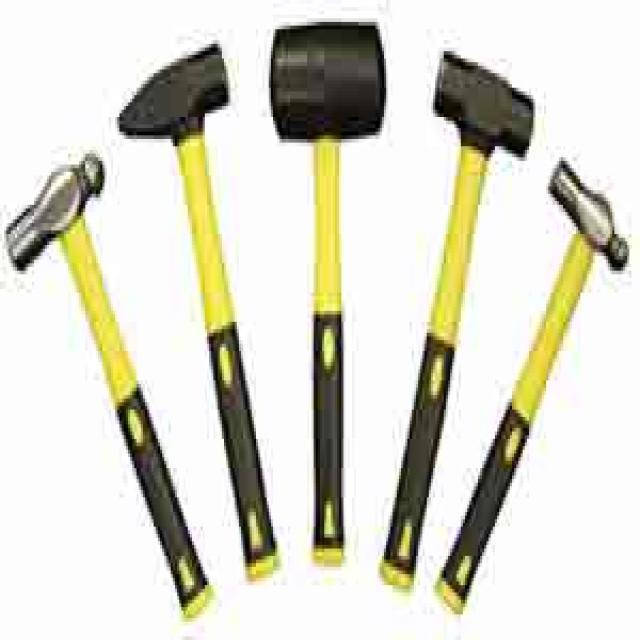hammer: (0, 146, 213, 639), (112, 15, 284, 578), (386, 59, 548, 609), (441, 165, 628, 640), (266, 0, 388, 592)
